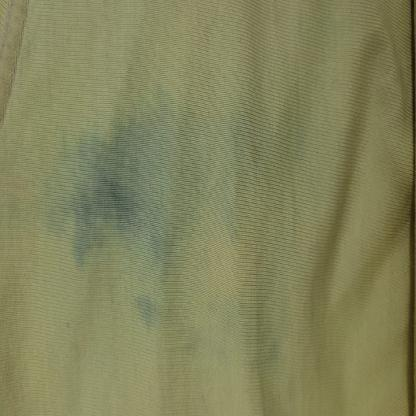spot: (10, 114, 283, 357), (90, 47, 314, 228), (43, 144, 189, 316), (129, 16, 191, 320)
